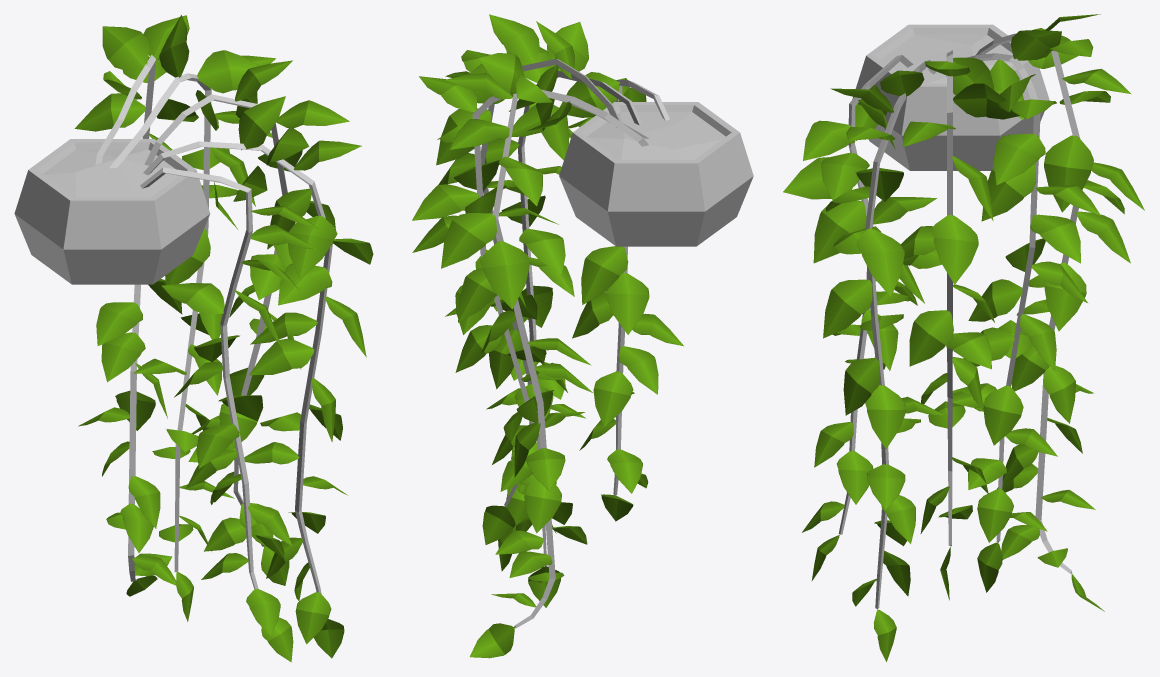
The model's file is SM_HangingPlant.fbx.
The picture shows the model from 3 angles, left to right: view 1: azimuth 30°, elevation 25°; view 2: azimuth 150°, elevation 25°; view 3: azimuth 270°, elevation 25°; orthographic projection.
Parts seen in each view (by area): view 1: SM_HangingPlant; view 2: SM_HangingPlant; view 3: SM_HangingPlant.
Boxes of the visible parts, <box> form: SM_HangingPlant: <box>14,15,373,662</box>; SM_HangingPlant: <box>412,14,753,658</box>; SM_HangingPlant: <box>783,14,1144,661</box>.
Size of what is drawn, in the model's own units: 0.3711 by 0.7009 by 0.3844.
